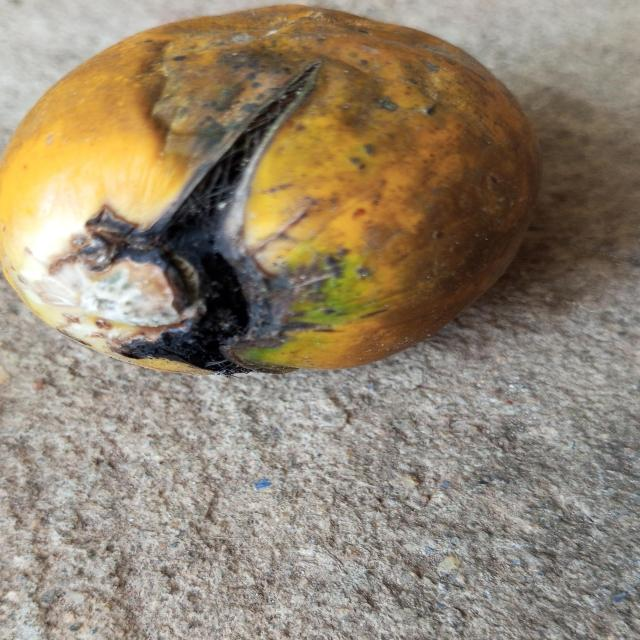damaged: (0, 5, 543, 376)
